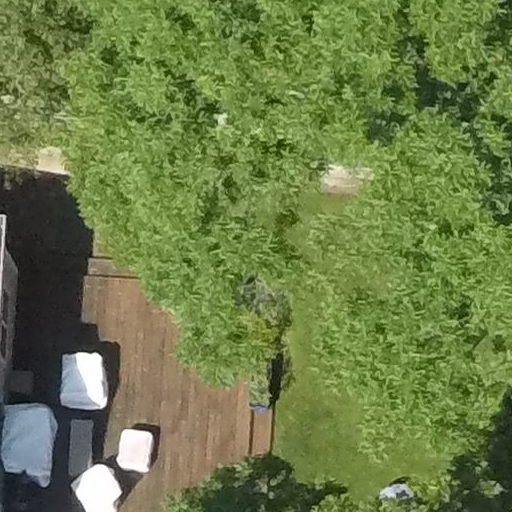porch: (1, 186, 313, 512)
tarp: (1, 395, 61, 499), (50, 344, 119, 418), (107, 415, 165, 476), (61, 457, 125, 512)
